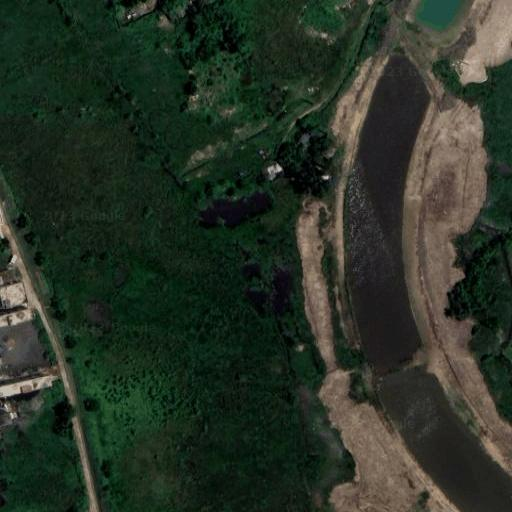building: (194, 186, 273, 232), (455, 59, 490, 91), (0, 284, 27, 314), (263, 161, 289, 184), (320, 172, 337, 187)
